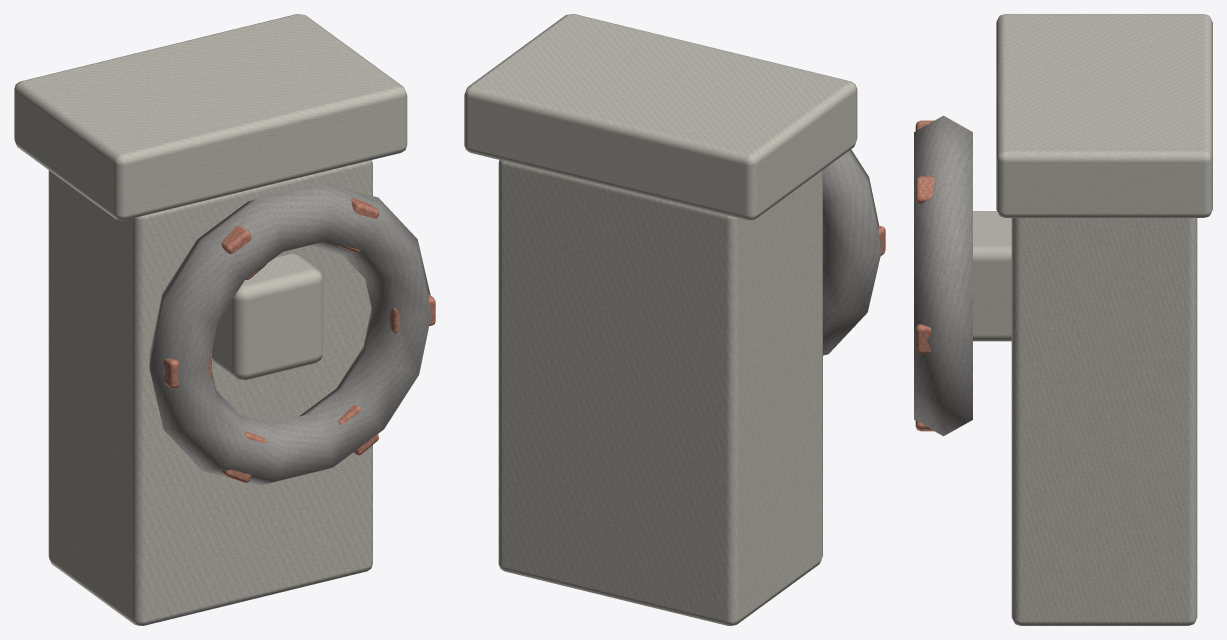
File: ball_court_stone_ring.glb
3 views of the same model, side by side, from view 1: azimuth 30°, elevation 25°; view 2: azimuth 150°, elevation 25°; view 3: azimuth 270°, elevation 25° (orthographic).
Visible parts, largest first — view 1: ball-court-stone-ring, ring-court/stone, ring-court/plaster; view 2: ball-court-stone-ring, ring-court/stone; view 3: ball-court-stone-ring, ring-court/stone, ring-court/plaster.
Part boxes in pixels (x1,y1,x2,y2): ball-court-stone-ring: [14, 14, 407, 625]; ring-court/stone: [149, 183, 431, 485]; ring-court/plaster: [163, 198, 435, 482]; ball-court-stone-ring: [464, 14, 857, 625]; ring-court/stone: [823, 149, 881, 355]; ball-court-stone-ring: [973, 14, 1212, 625]; ring-court/stone: [914, 115, 972, 436]; ring-court/plaster: [915, 120, 934, 431].
Size of the model in its own units: 1.1 by 1.74 by 0.9652.
Materials: 3 (3 with a texture image).
